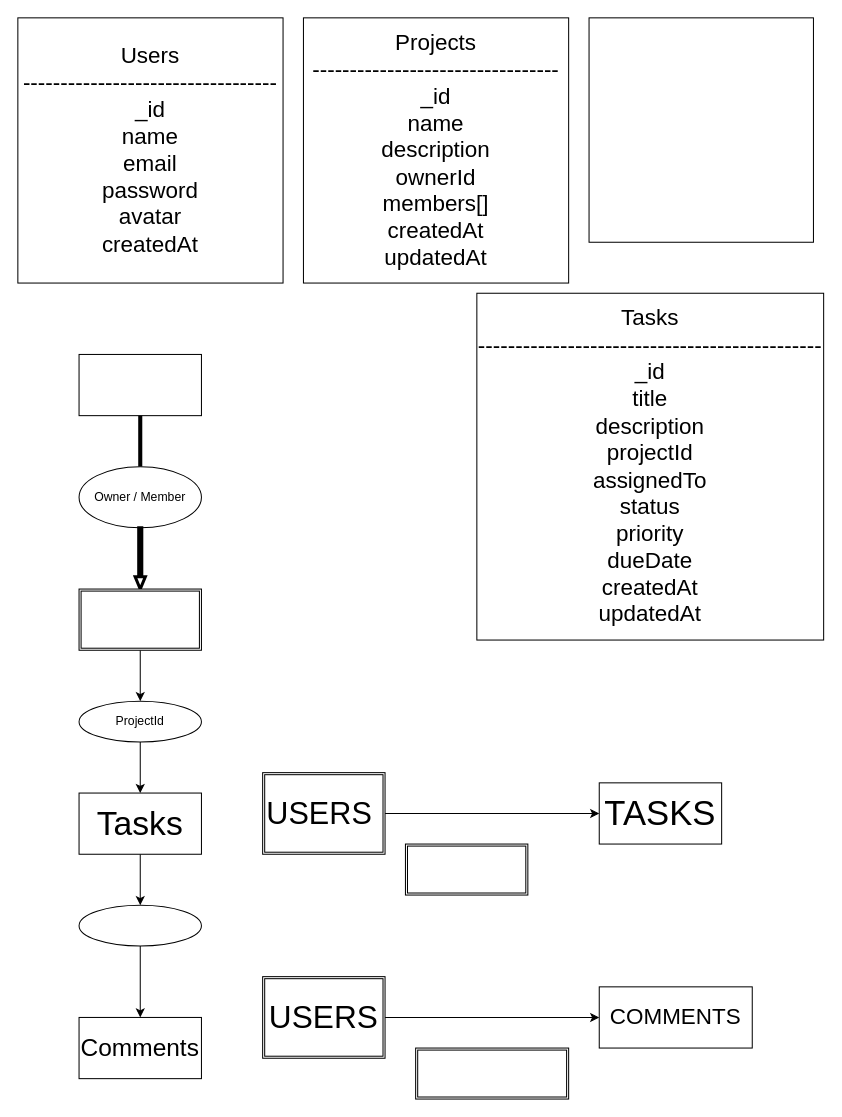
Image size: 842x1117. Some labels were removed from this diagram. The centre of each missing label's shape, as x and y in pixels:
"Assigned To" goes at point 466,869.
"AuthorId" goes at point 492,1073.
"Comments ----------------------------- _id taskId authorId content createdAt" goes at point 700,129.
"PROJECTS" goes at point 139,619.
"TaskId" goes at point 139,925.
"USER" goes at point 139,384.
